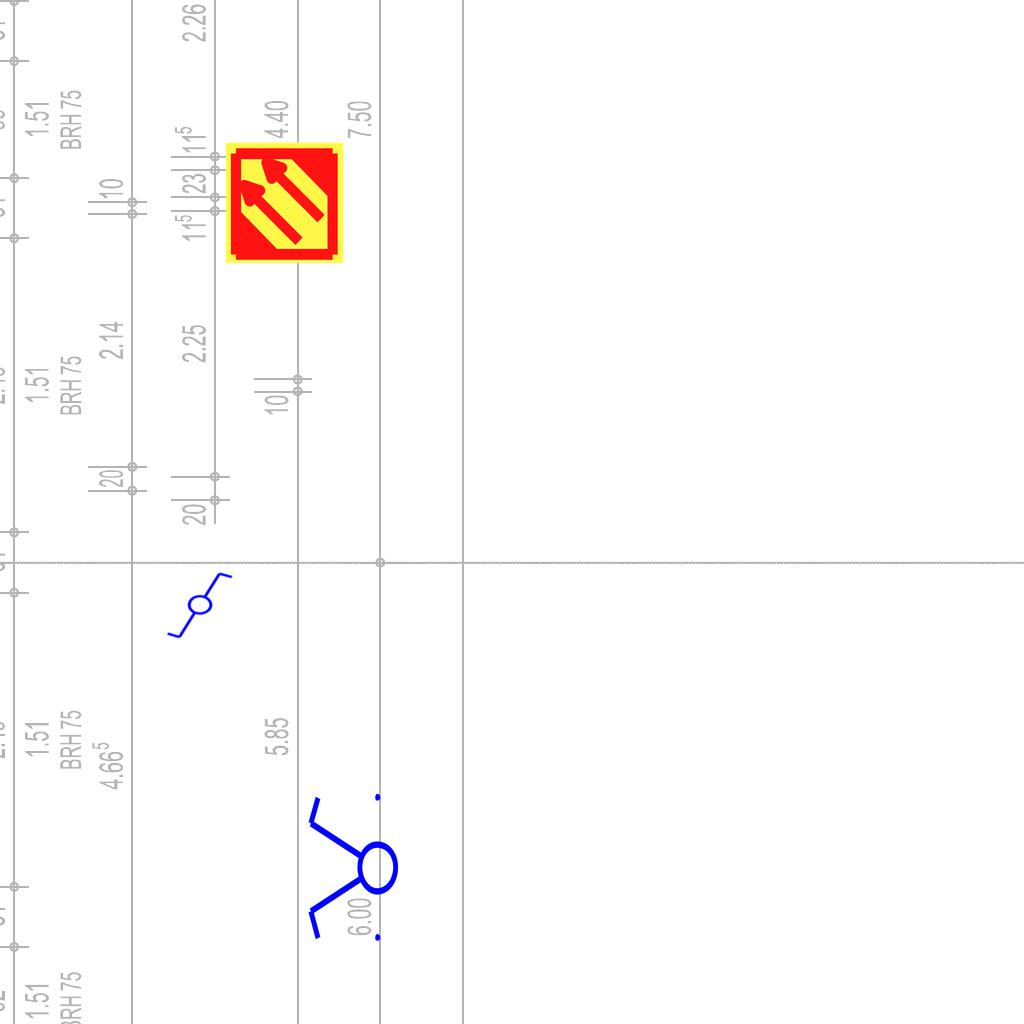ASR_Ansaugrauchmelder: (222, 140, 347, 265)
Serienschalter: (304, 785, 400, 953)
Wechselschalter: (165, 570, 243, 642)
